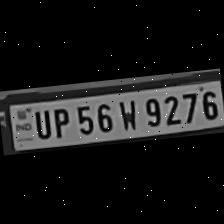2: (159, 92, 181, 126)
5: (71, 100, 96, 136)
6: (92, 99, 116, 134), (197, 86, 220, 122)
7: (178, 88, 198, 124)
9: (139, 94, 163, 128)
P: (48, 104, 71, 139)
U: (30, 105, 52, 140)
W: (115, 96, 140, 132)
